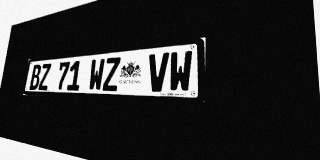1: (67, 60, 82, 91)
7: (55, 62, 70, 90)
B: (29, 64, 42, 90)
V: (147, 52, 169, 92)
W: (168, 50, 193, 92), (88, 58, 105, 91)
Z: (102, 57, 121, 91), (38, 63, 51, 90)
